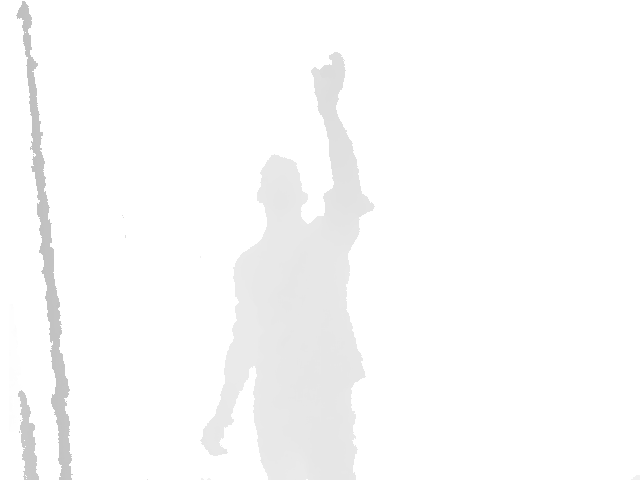hand: (310, 51, 346, 113)
hand_down: (200, 413, 235, 457)
head: (256, 155, 308, 220)
person: (200, 51, 376, 480)
